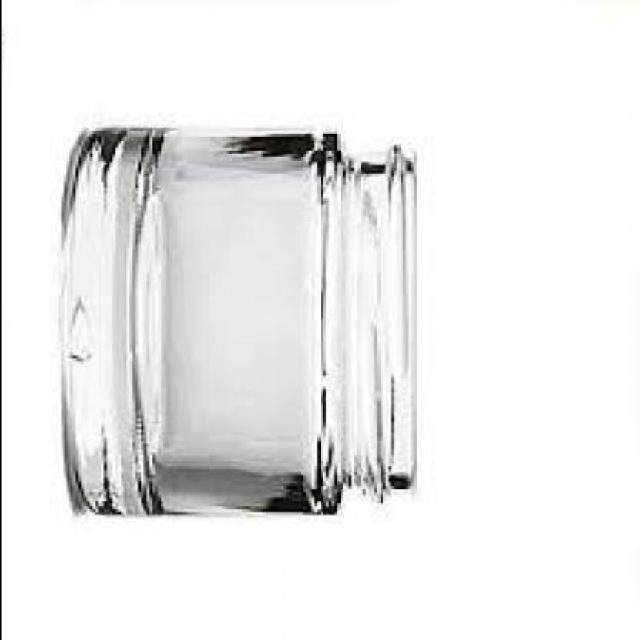GLASS: (64, 131, 418, 515)
